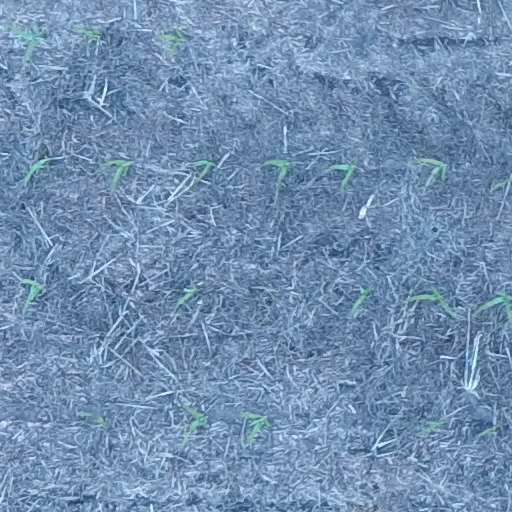planta: (407, 287, 455, 315), (8, 25, 44, 61), (179, 402, 209, 445), (238, 411, 271, 443), (413, 157, 448, 186), (327, 160, 358, 189), (348, 283, 374, 316), (104, 158, 131, 187), (24, 156, 52, 183), (22, 276, 45, 308), (263, 158, 293, 182), (159, 30, 184, 54), (176, 283, 197, 306), (194, 157, 214, 181), (419, 419, 440, 433), (476, 424, 497, 438), (83, 411, 105, 424)
